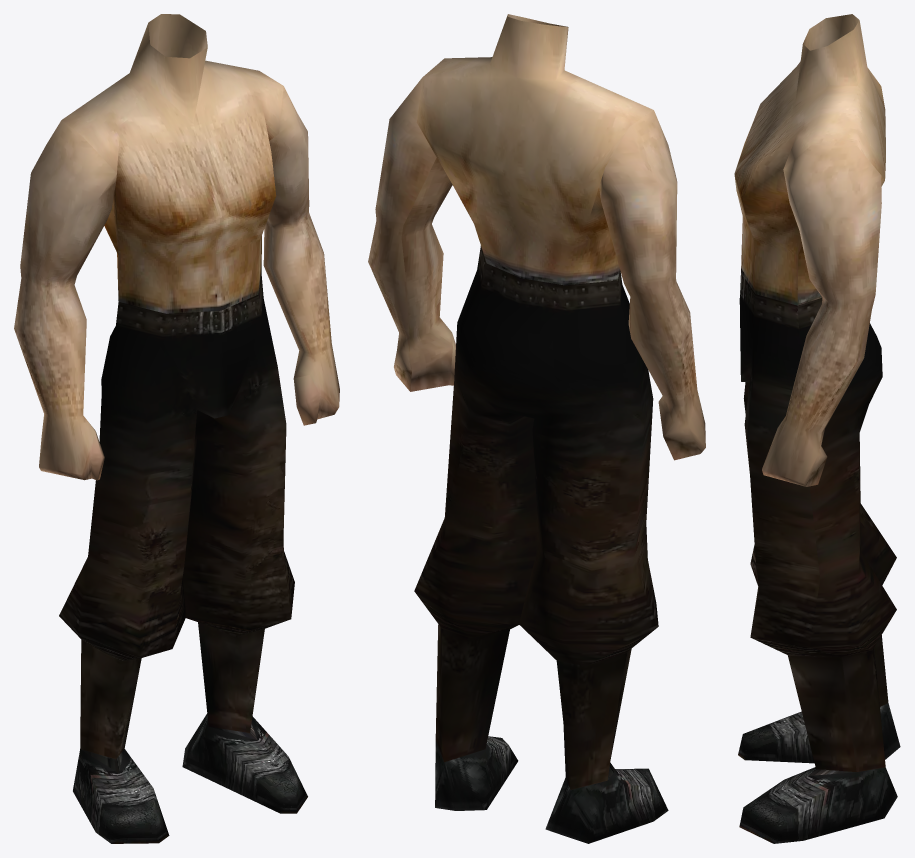
Rendered from KM_PANTS_04.glb.
3 renders of one model, left to right at view 1: azimuth 30°, elevation 25°; view 2: azimuth 150°, elevation 25°; view 3: azimuth 270°, elevation 25°, orthographic. The views are drawn at different scales.
Visible parts, largest first — view 1: KM_PANTS_04; view 2: KM_PANTS_04; view 3: KM_PANTS_04.
Part boxes in pixels (<box>): KM_PANTS_04: <box>14,14,339,843</box>; KM_PANTS_04: <box>368,14,705,843</box>; KM_PANTS_04: <box>734,14,900,843</box>.
Bounding box in the file's own units: 0.6879 × 1.69 × 0.3299.
2 materials, 2 textured.
